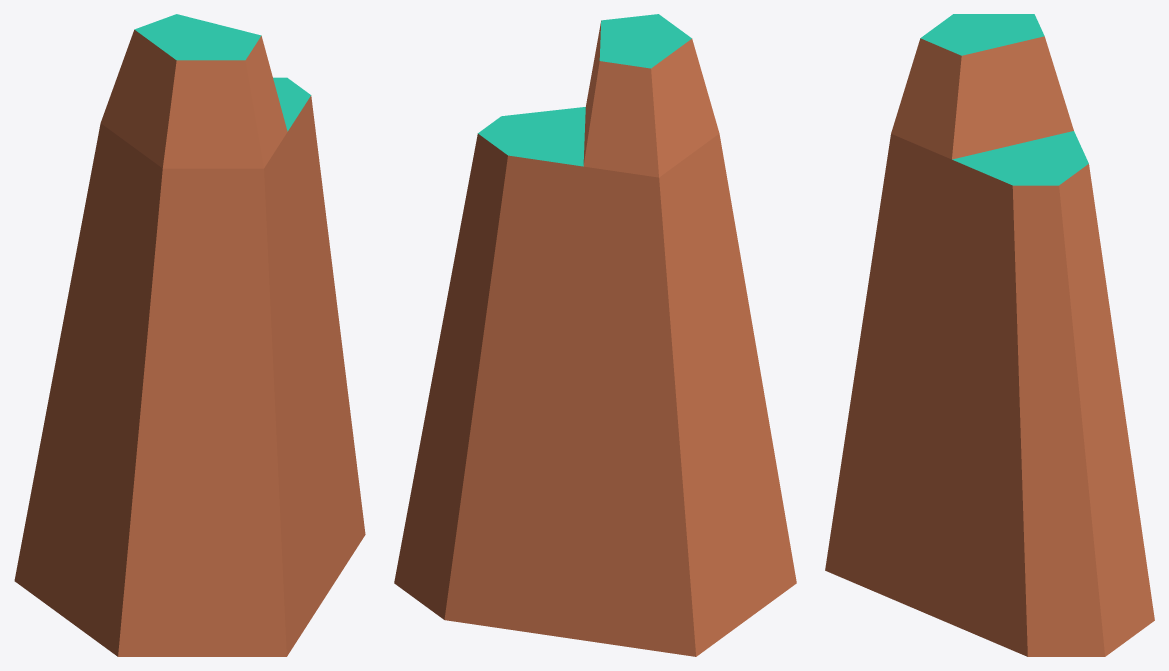
Rendered from d_kenney_roc_dresse_c.glb.
3 views of the same model, side by side, from view 1: azimuth 30°, elevation 25°; view 2: azimuth 150°, elevation 25°; view 3: azimuth 270°, elevation 25° (orthographic). The views are drawn at different scales.
Visible parts, largest first — view 1: d_kenney_roc_dresse_c; view 2: d_kenney_roc_dresse_c; view 3: d_kenney_roc_dresse_c.
Part boxes in pixels (bbox=[...]): d_kenney_roc_dresse_c: bbox=[14, 14, 365, 656]; d_kenney_roc_dresse_c: bbox=[394, 14, 796, 656]; d_kenney_roc_dresse_c: bbox=[825, 14, 1154, 656].
Size of the model in its own units: 0.4562 by 0.7829 by 0.4365.
Materials: 1 (1 with a texture image).
